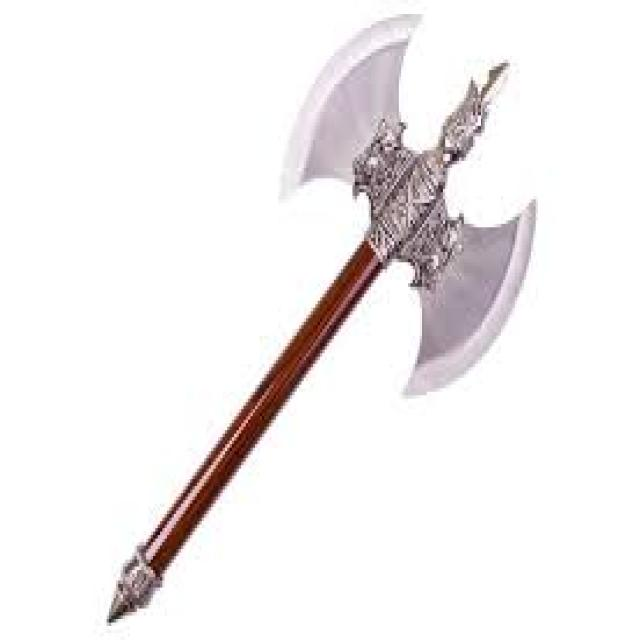Gun: (49, 0, 580, 636)
